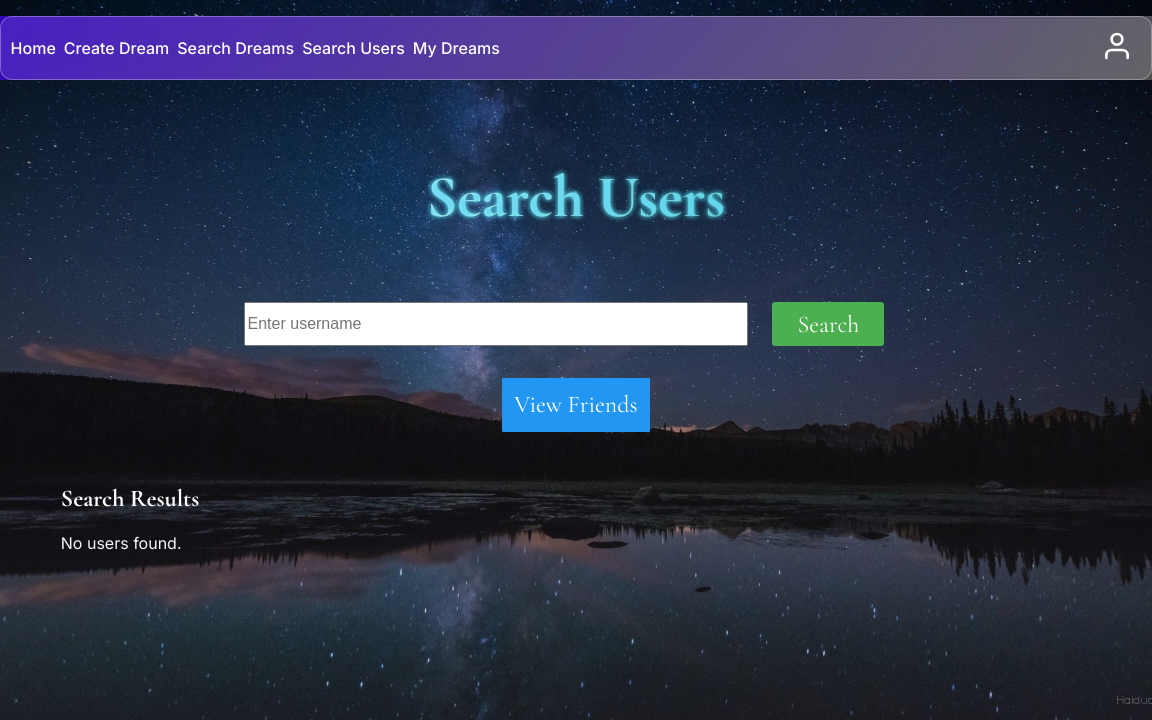
Test: SearchUsers › shows error on blank text input search click
Step 1. Click the button "Search" → (828, 324), box [772,302,884,346]
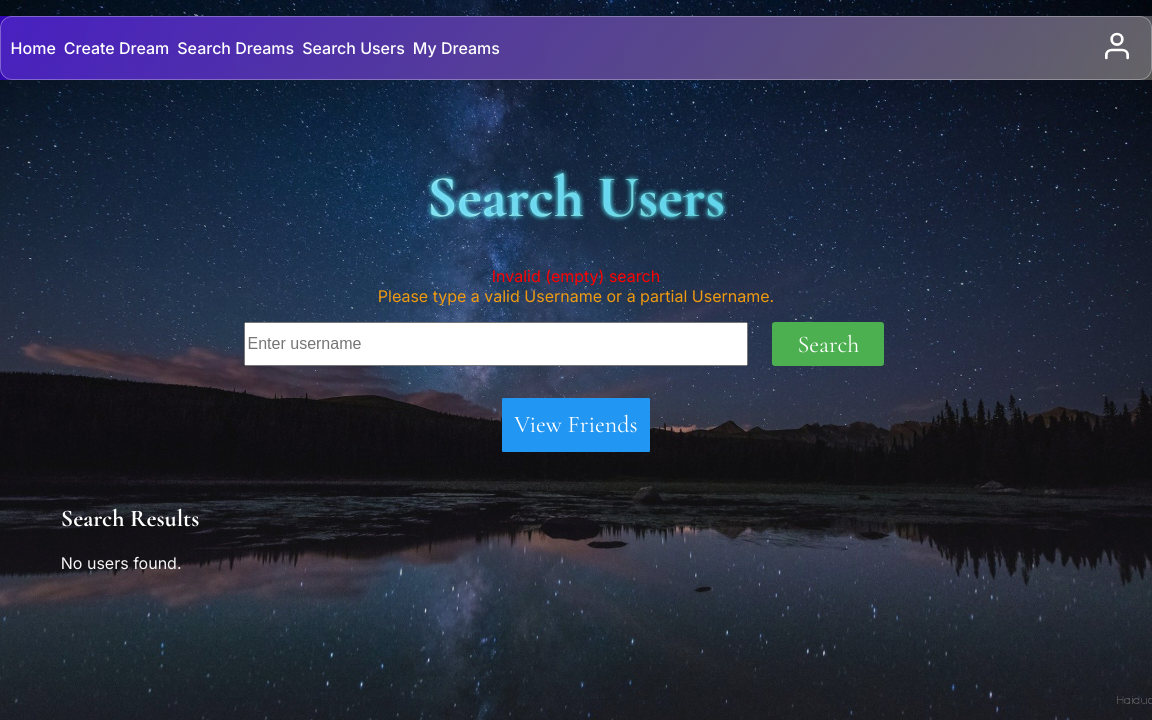
expect the text "Please type a valid Username or a partial Username." is shown: met, box [378,286,774,306]
